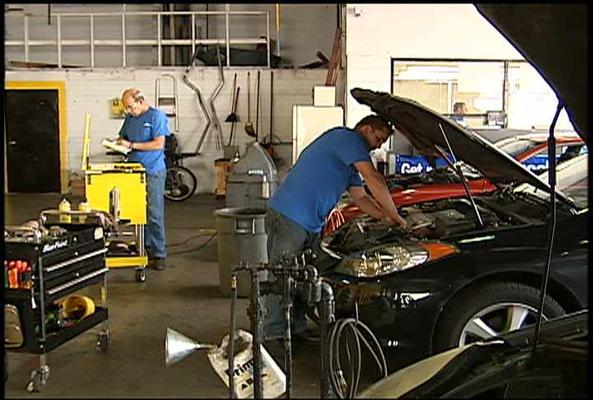person: (261, 114, 409, 360)
